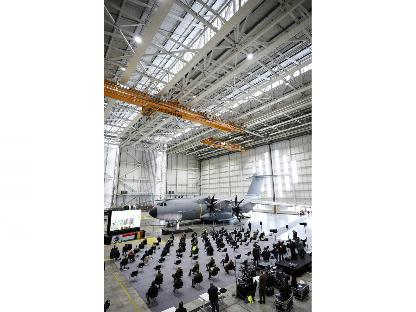A400M: (147, 172, 297, 226)
